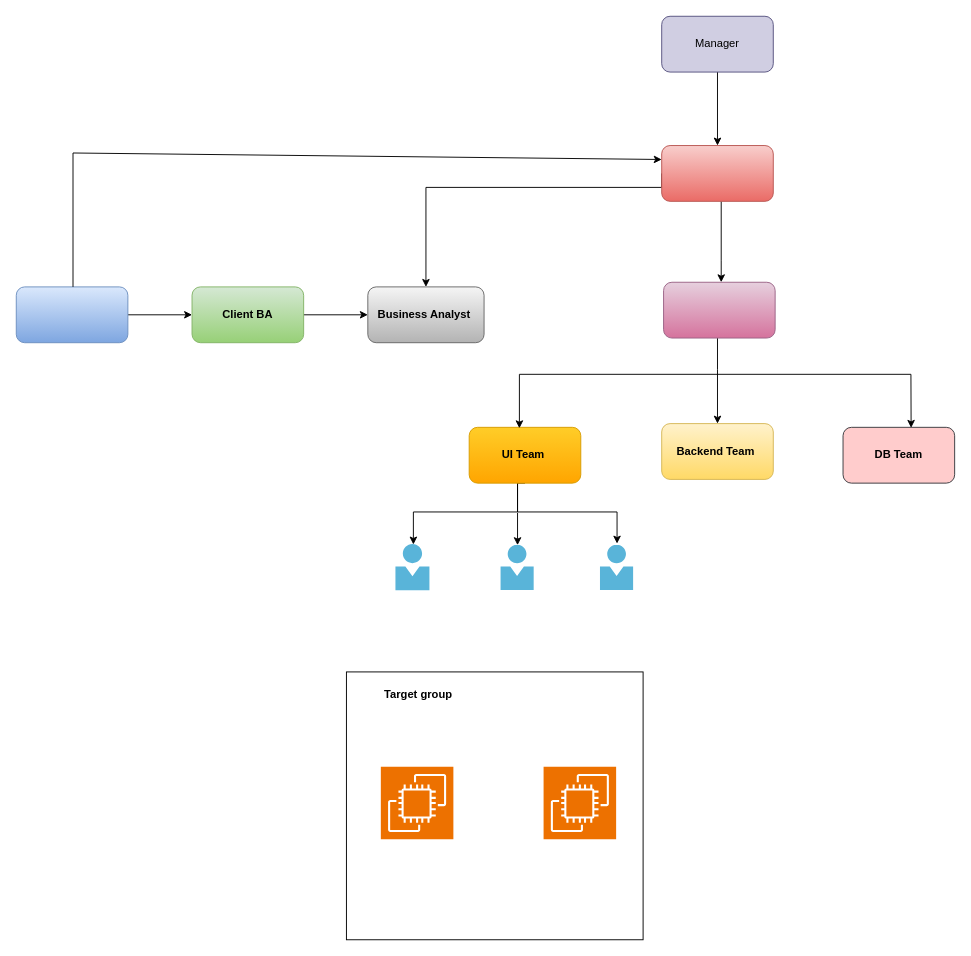
Some shapes in this 971 by 956 pixel diagram are drawn without their labels. The centre of each missing label's shape, as x and y in pixels:
"Clinets" goes at (71,314).
"Delivery Manager" goes at (717,173).
"Team manager" goes at (719,309).
